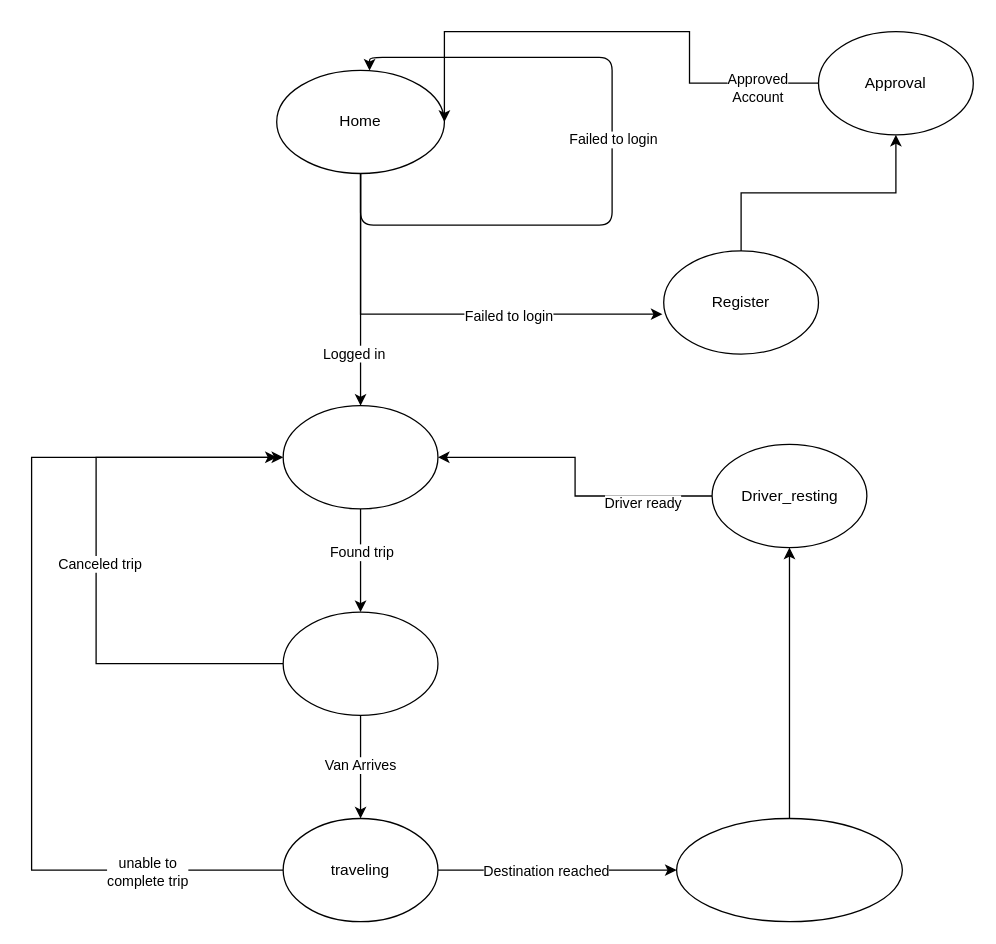
Some shapes in this 996 by 944 pixel diagram are drawn without their labels. The shapes that lost their labels are listed below. From the top down, each one's centre as x and y in pixels, then its label:
At point (360, 456): "Seeking_trip".
At point (360, 663): "Pick up Passangers".
At point (788, 869): "Booking complete".
